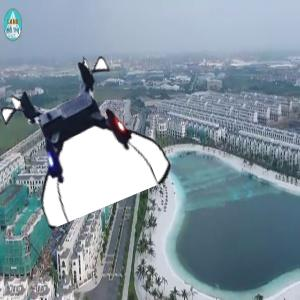drone: (6, 62, 156, 212)
